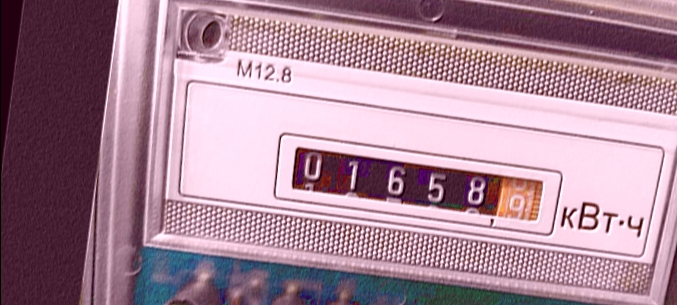0: (303, 149, 327, 182)
1: (345, 158, 366, 192)
5: (426, 170, 451, 204)
6: (387, 162, 411, 198)
8: (467, 173, 491, 207)
9: (506, 192, 530, 222)
screen: (263, 123, 572, 244)
